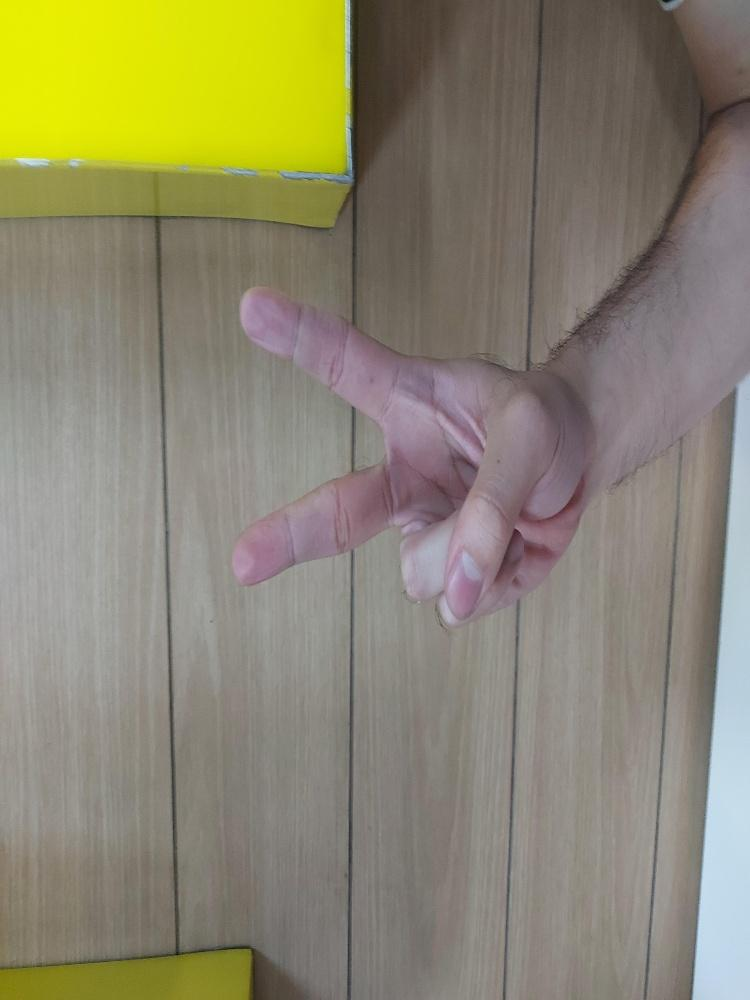v: (276, 301, 537, 749)
